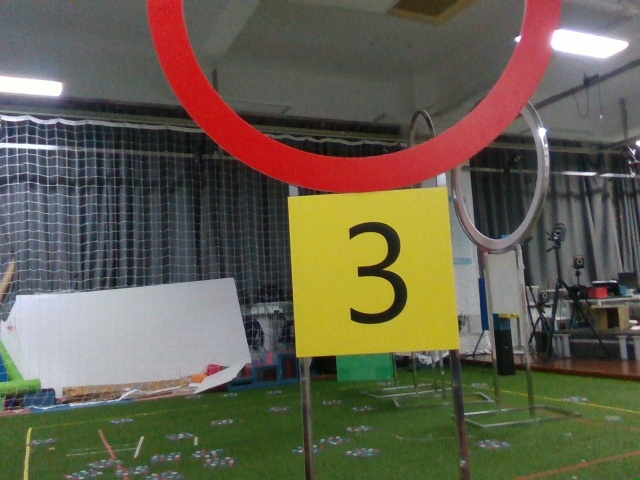target: (291, 193, 449, 354)
